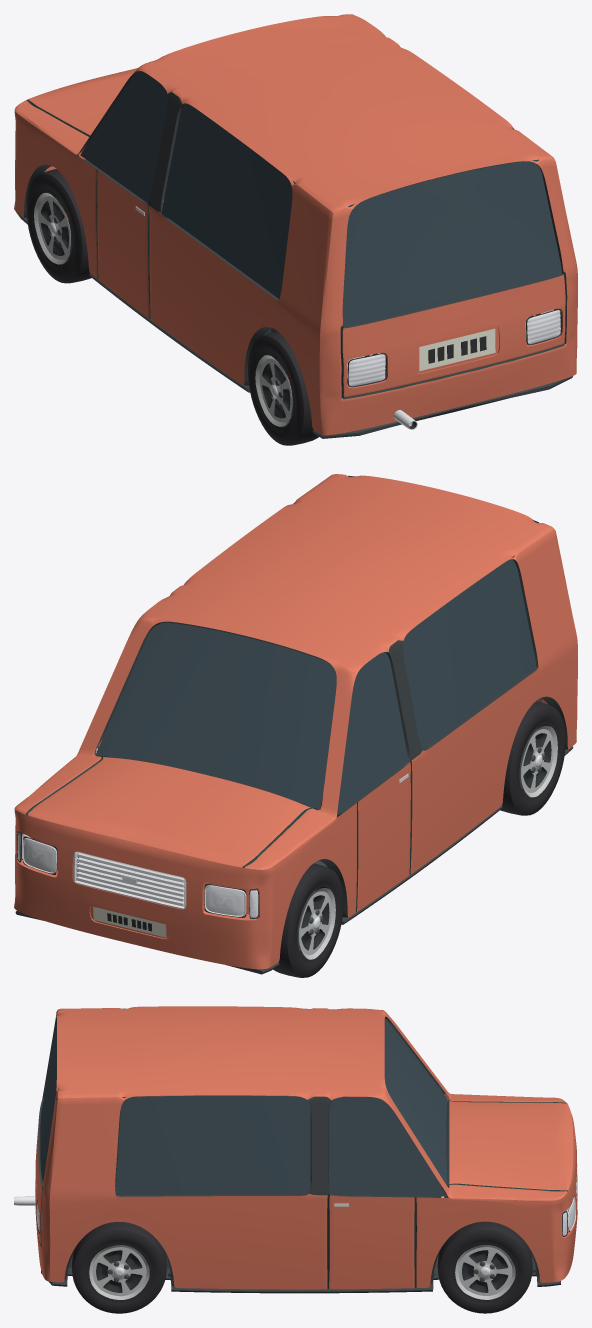
Rendered from forge_closed_van.fbx.
3 views of the same model, one above another, from view 1: azimuth 30°, elevation 25°; view 2: azimuth 150°, elevation 25°; view 3: azimuth 270°, elevation 25° (orthographic). The views are drawn at different scales.
Visible parts, largest first — view 1: Body, Wheel_RL_Mesh, Wheel_FL_Mesh; view 2: Body, Wheel_FL_Mesh, Wheel_RL_Mesh; view 3: Body, Wheel_FR_Mesh, Wheel_RR_Mesh.
Boxes of the visible parts, left/top/right/bottom form: Body: left=14, top=14, right=577, bottom=438; Wheel_RL_Mesh: left=248, top=331, right=318, bottom=445; Wheel_FL_Mesh: left=26, top=169, right=91, bottom=283; Body: left=14, top=474, right=577, bottom=974; Wheel_FL_Mesh: left=273, top=863, right=343, bottom=977; Wheel_RL_Mesh: left=500, top=701, right=565, bottom=815; Body: left=14, top=1006, right=577, bottom=1293; Wheel_FR_Mesh: left=437, top=1221, right=532, bottom=1313; Wheel_RR_Mesh: left=72, top=1222, right=166, bottom=1313.
Bounding box in the file's own units: 159 × 151 × 351.
